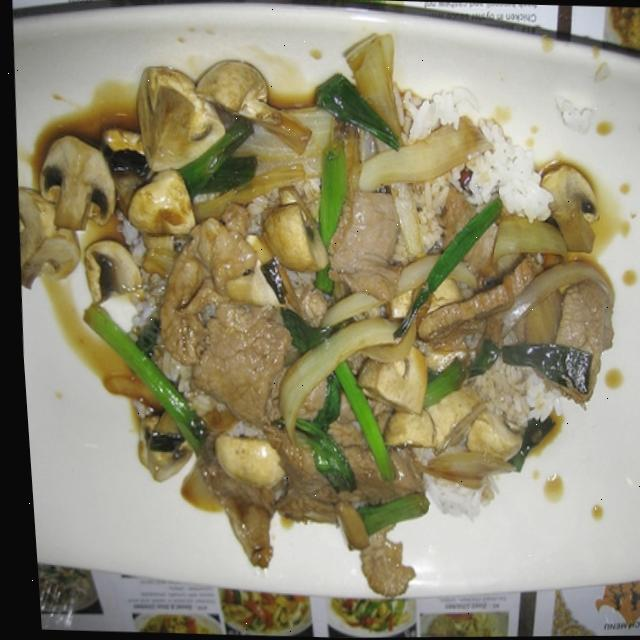牛肉菜式: (16, 8, 640, 619)
